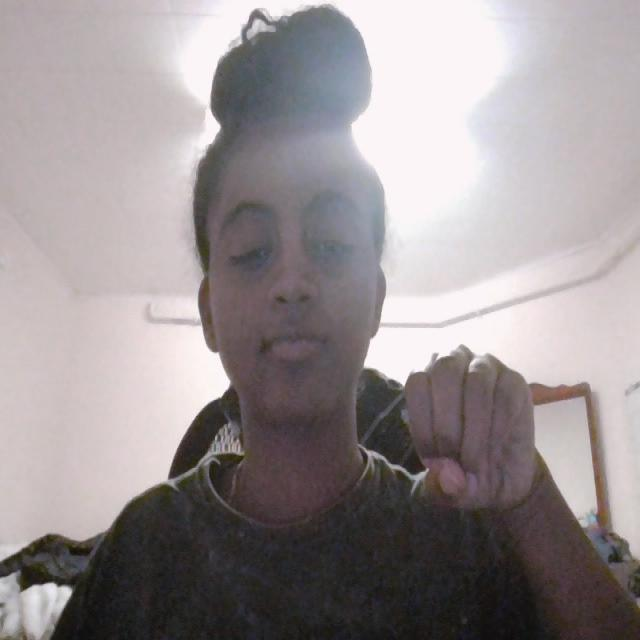Yes: (394, 327, 551, 528)
